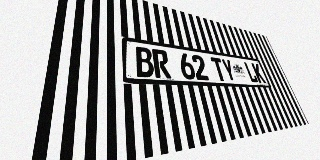2: (191, 54, 209, 80)
6: (178, 52, 197, 80)
B: (134, 46, 155, 78)
K: (251, 63, 266, 83)
L: (243, 62, 259, 83)
R: (152, 49, 171, 79)
T: (210, 57, 227, 81)
Y: (220, 58, 237, 82)
